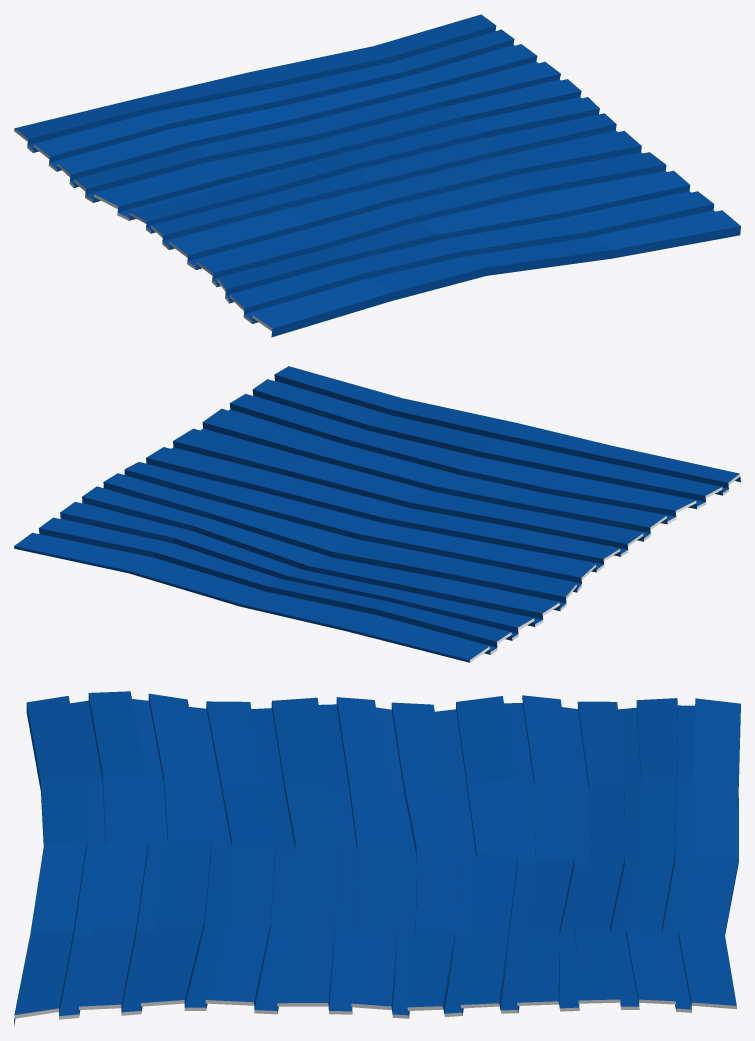
The model's file is House roof 2.fbx.
3 views of the same model, one above another, from view 1: azimuth 30°, elevation 25°; view 2: azimuth 150°, elevation 25°; view 3: azimuth 270°, elevation 25° (orthographic). The views are drawn at different scales.
Parts seen in each view (by area): view 1: House roof 2; view 2: House roof 2; view 3: House roof 2.
Part boxes in pixels (bbox=[...]): House roof 2: bbox=[14, 14, 740, 337]; House roof 2: bbox=[14, 366, 740, 662]; House roof 2: bbox=[14, 691, 740, 1025].
Size of the model in its own units: 204 by 10.01 by 200.
